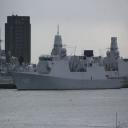Fragata: (10, 29, 126, 93)
